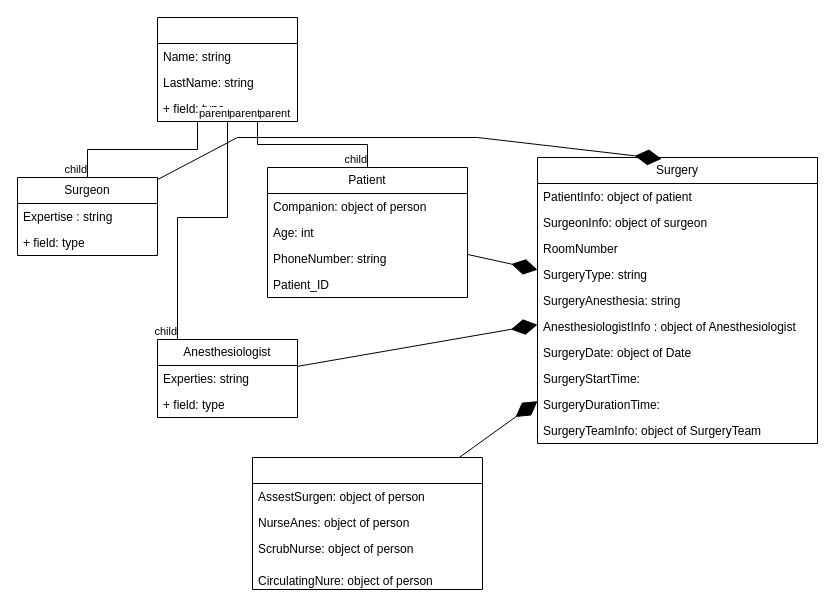
The diagram is 835 pixels wide and 610 high, and some of its shapes have lost their labels. Each missing label, with the box of its shape:
Person: (156, 16, 298, 122)
SurgeryTeam: (252, 456, 482, 590)
